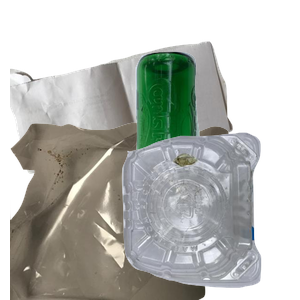glass: (129, 49, 300, 229)
paper: (10, 39, 236, 205)
plastic: (119, 130, 300, 300)
trash: (10, 120, 250, 300)
